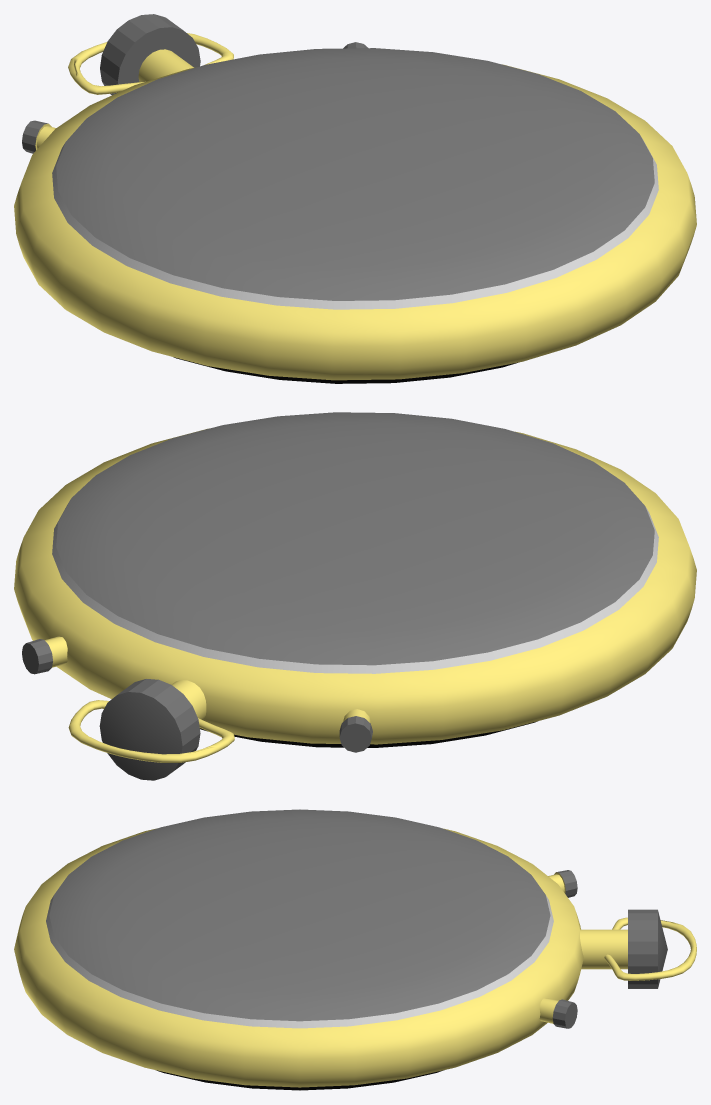
File: PocketWatch.FBX
The picture shows the model from 3 angles, top to bottom: view 1: azimuth 30°, elevation 25°; view 2: azimuth 150°, elevation 25°; view 3: azimuth 270°, elevation 25°; orthographic projection. The views are drawn at different scales.
Parts seen in each view (by area): view 1: UhrGlas, UhrDeckel; view 2: UhrGlas, UhrDeckel; view 3: UhrGlas, UhrDeckel.
Part boxes in pixels (box(x1,y1,x2,y2)): UhrGlas: box(52, 48, 658, 309); UhrDeckel: box(14, 14, 696, 383); UhrGlas: box(52, 412, 658, 673); UhrDeckel: box(14, 428, 696, 780); UhrGlas: box(46, 809, 553, 1028); UhrDeckel: box(14, 828, 696, 1090).
Size of the model in its own units: 28.58 by 6.39 by 34.14.
